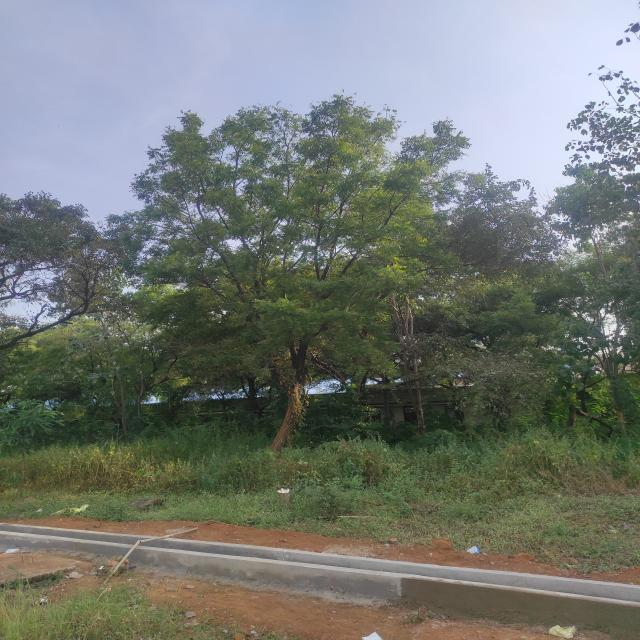Devakanchan tree: (1, 189, 118, 364)
Neem Tree: (161, 109, 429, 418)
